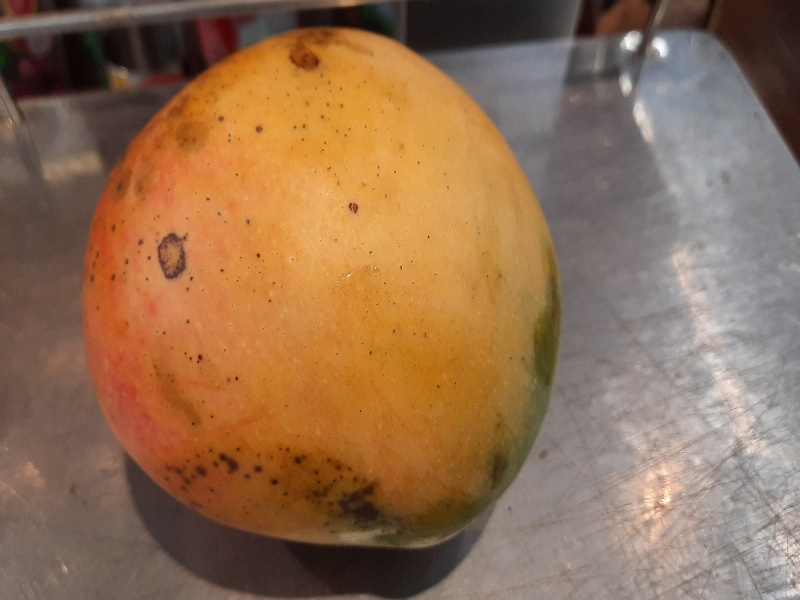fruit: (76, 23, 568, 558)
